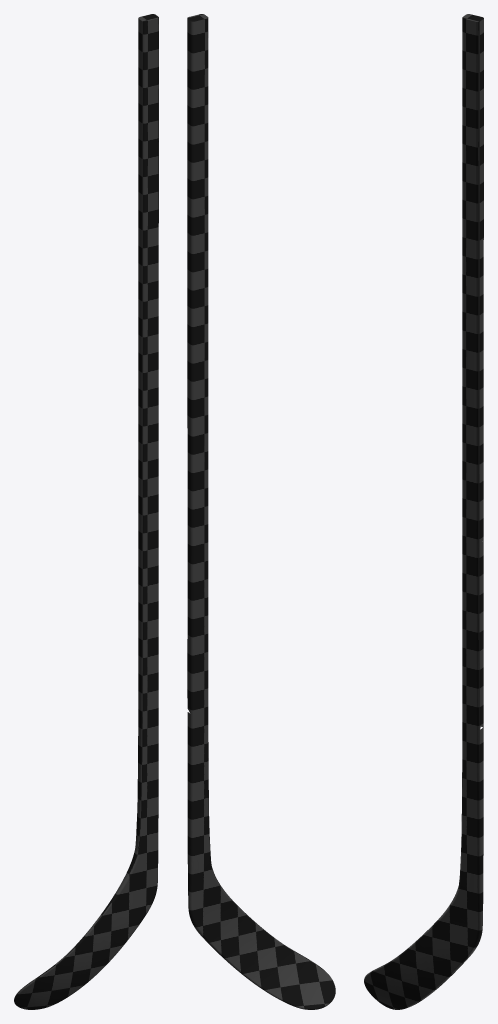
The picture shows the model from 3 angles, left to right: view 1: azimuth 30°, elevation 25°; view 2: azimuth 210°, elevation 25°; view 3: azimuth 330°, elevation 25°; orthographic projection. The views are drawn at different scales.
Visible parts, largest first — view 1: geometry_0; view 2: geometry_0; view 3: geometry_0.
Boxes of the visible parts, x1=… form: geometry_0: x1=14, y1=14, x2=158, y2=1009; geometry_0: x1=187, y1=14, x2=335, y2=1009; geometry_0: x1=364, y1=14, x2=483, y2=1009.
Bounding box in the file's own units: 224 × 1650 × 65.71.
Materials: 1 (1 with a texture image).
